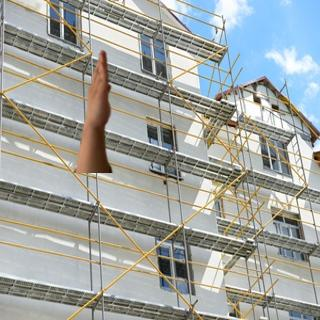RIGHT: (83, 47, 120, 136)
